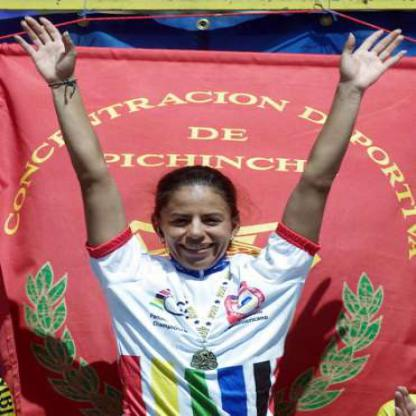face: (161, 170, 235, 271)
